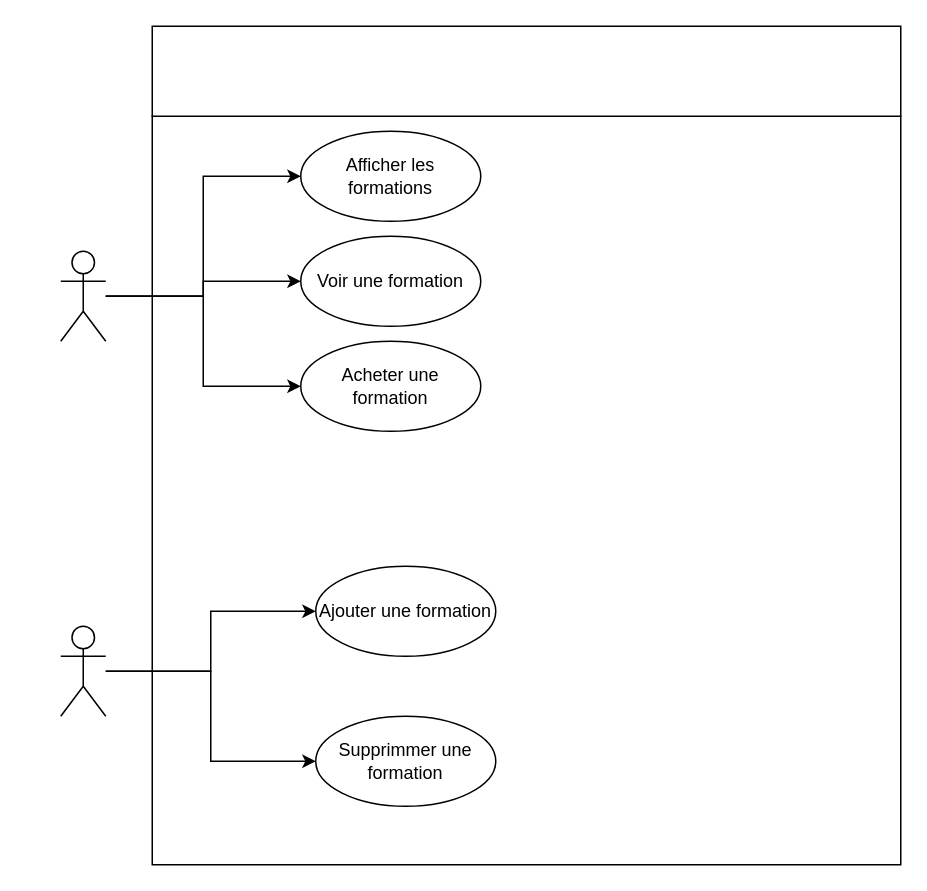
Image size: 927x891. Some labels were removed from this diagram. The shapes that lost their labels are listed below. From the top down, each one's centre as x and y in pixels, then its label:
At point 526,70: "Application d'achat de formation".
At point 82,295: "Utilisateur".
At point 82,670: "Administrateur".
